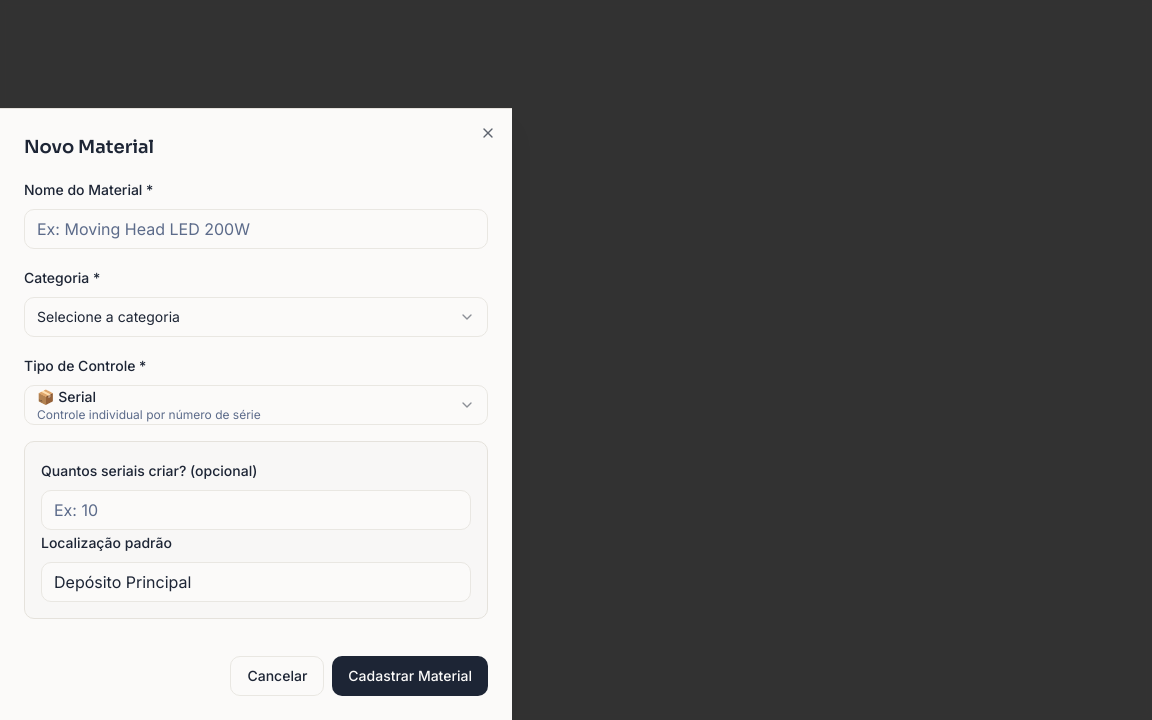
Test: NovoMaterialSheet › Form Validation › should validate minimum name length
Step 1. Type "AB" into the field labelled "Nome do Material *" → (256, 229), box [24,209,488,249]
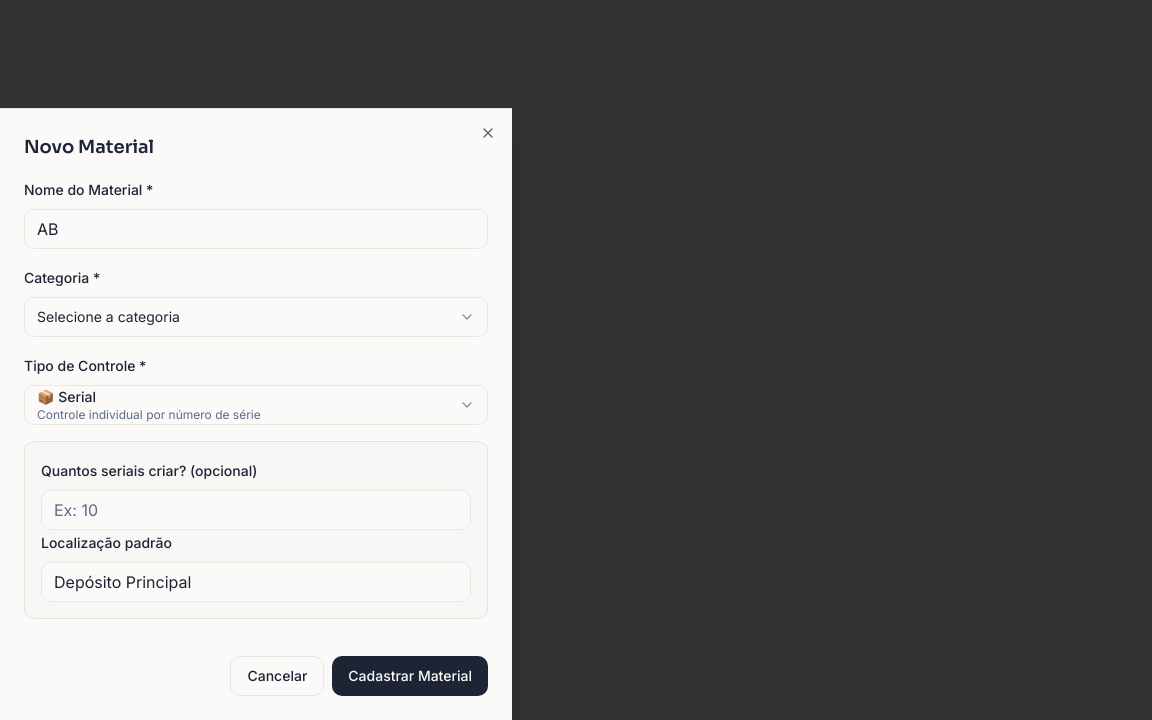
Step 2. Click the button "Cadastrar Material" → click(410, 676), box [332,656,488,696]
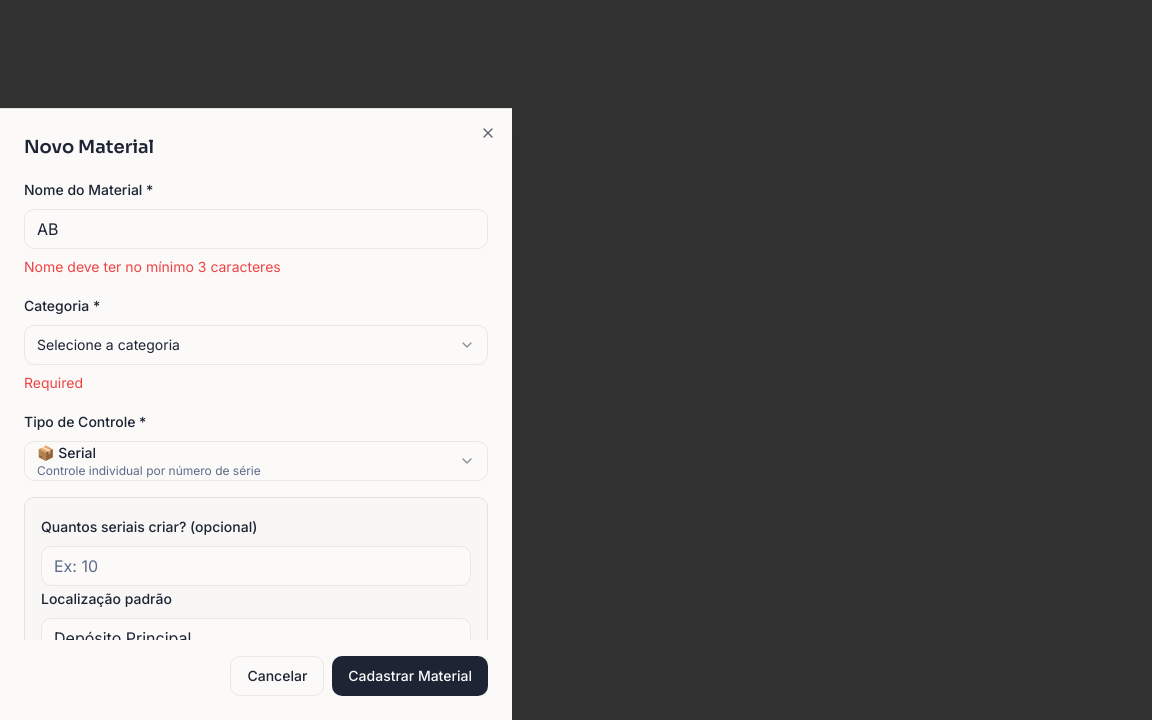
Now the text "Nome deve ter no mínimo 3 caracteres" is shown, box [24,258,281,275]
